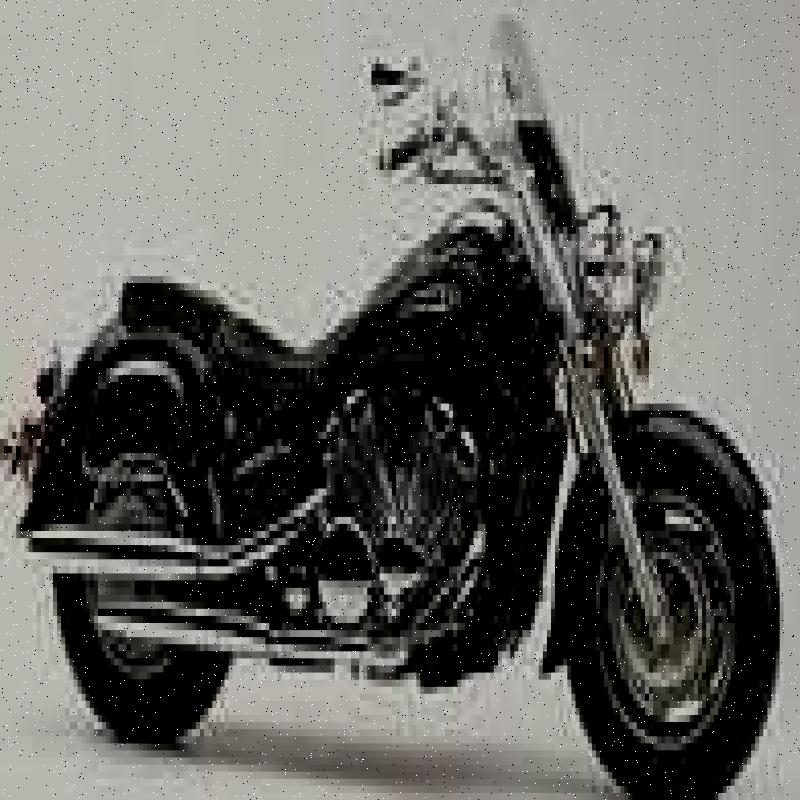bike: (6, 29, 800, 763)
